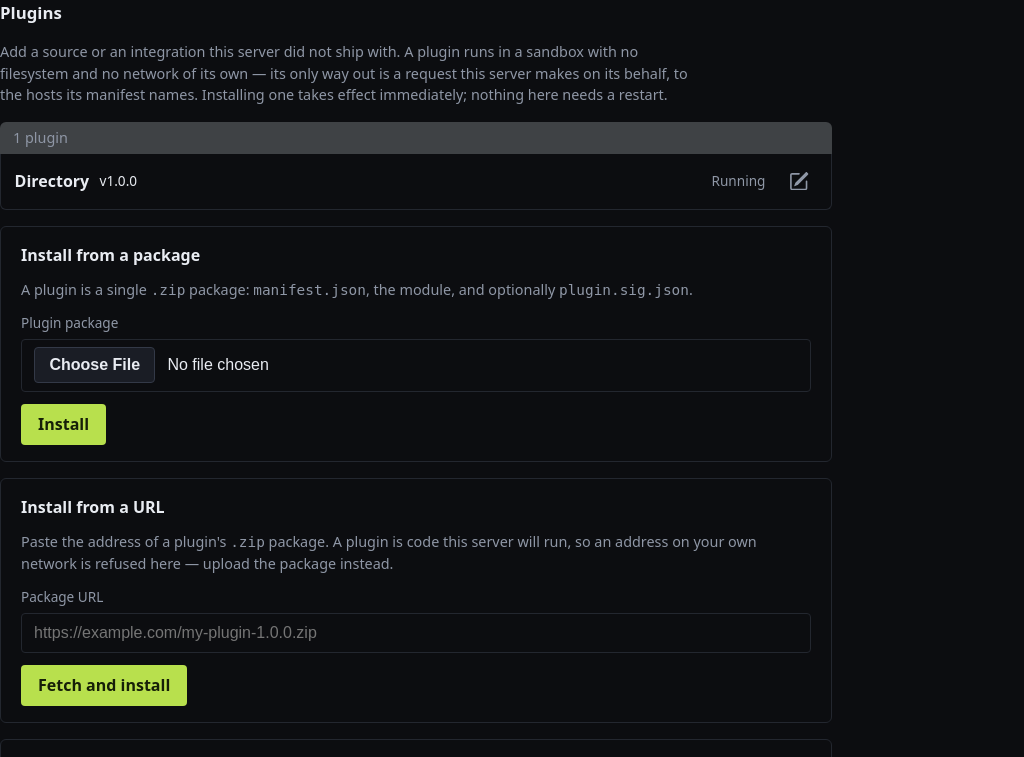
it: uninstalling a Sign-in provider › uninstalls nothing when the Admin cancels
Click the button with test id "plugin-edit-directory" at (799, 181), box [781,163,817,199]
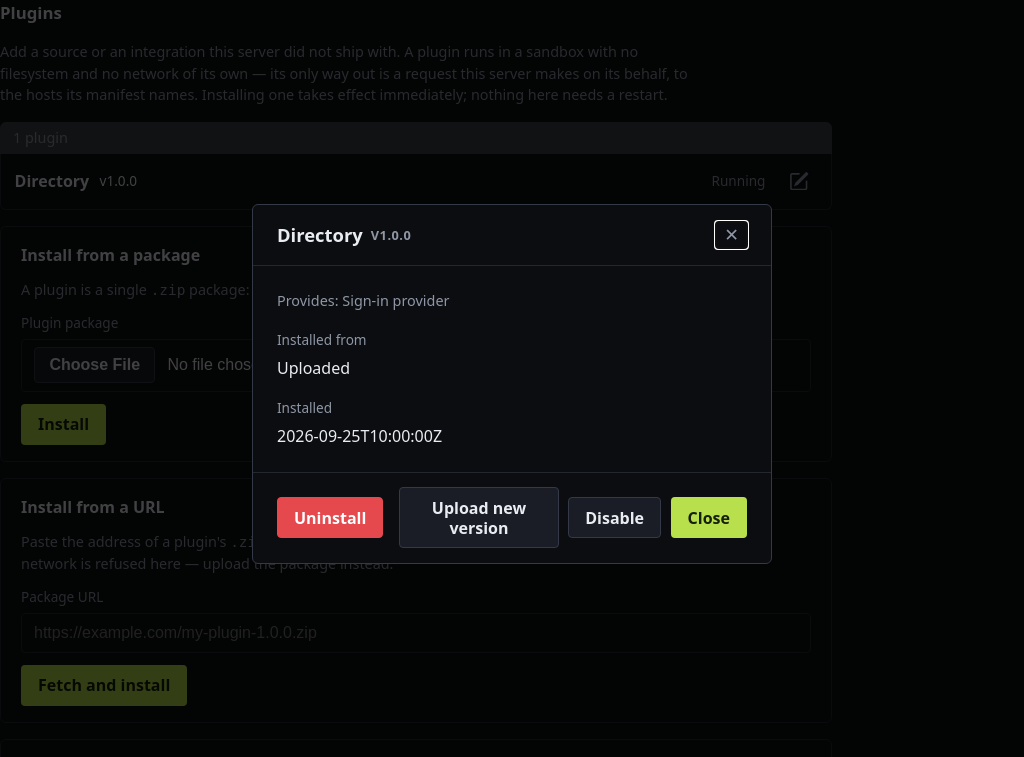
Click the button with test id "plugin-uninstall-directory" at (330, 518), box [277,497,383,538]
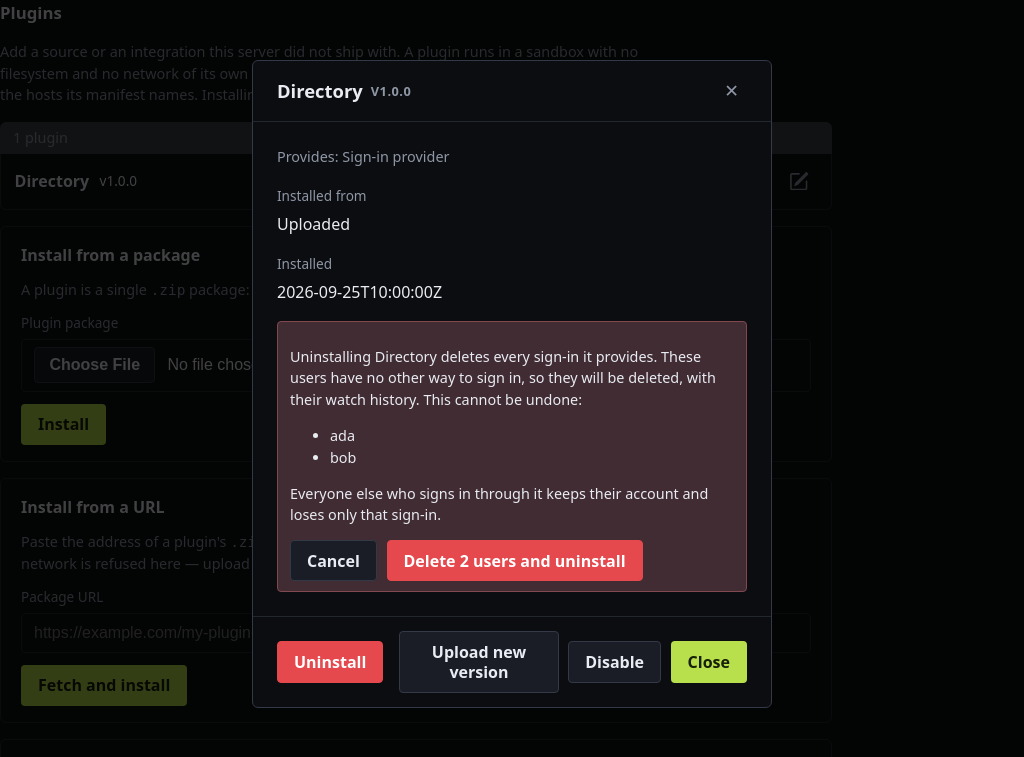
Click the button with test id "plugin-uninstall-cancel-directory" at (333, 561), box [290,540,377,581]
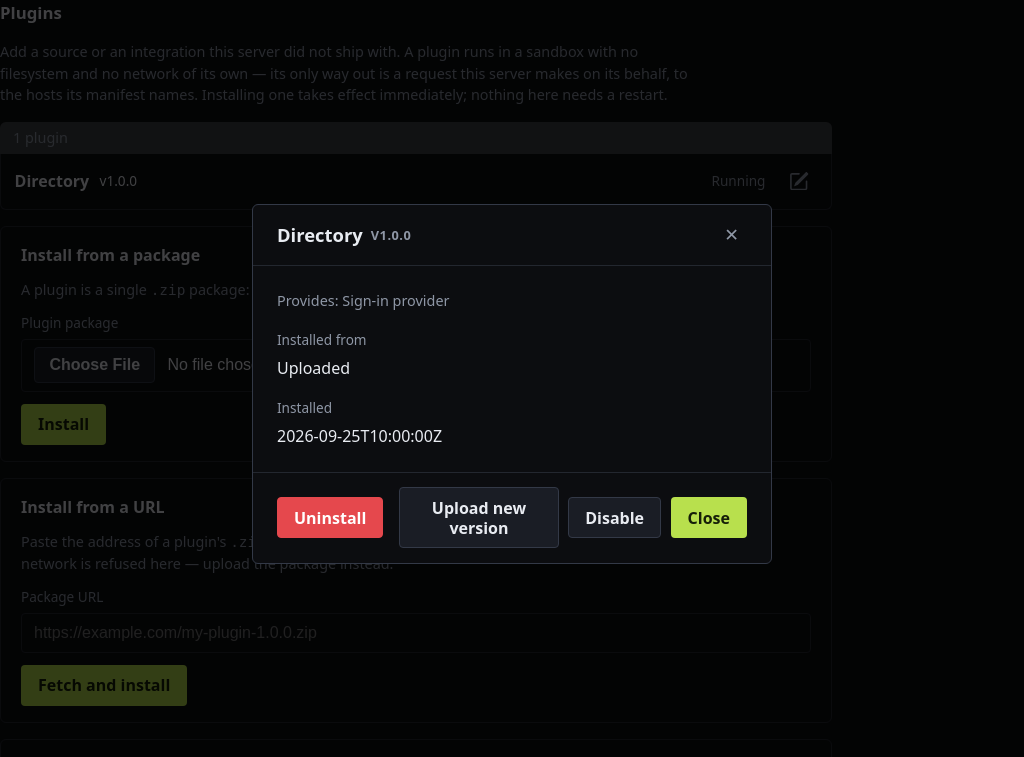
Expected: the list item with test id "plugin-directory" is shown, [1,154,831,209]
Now the element with test id "plugin-uninstall-confirmation-directory" is gone
